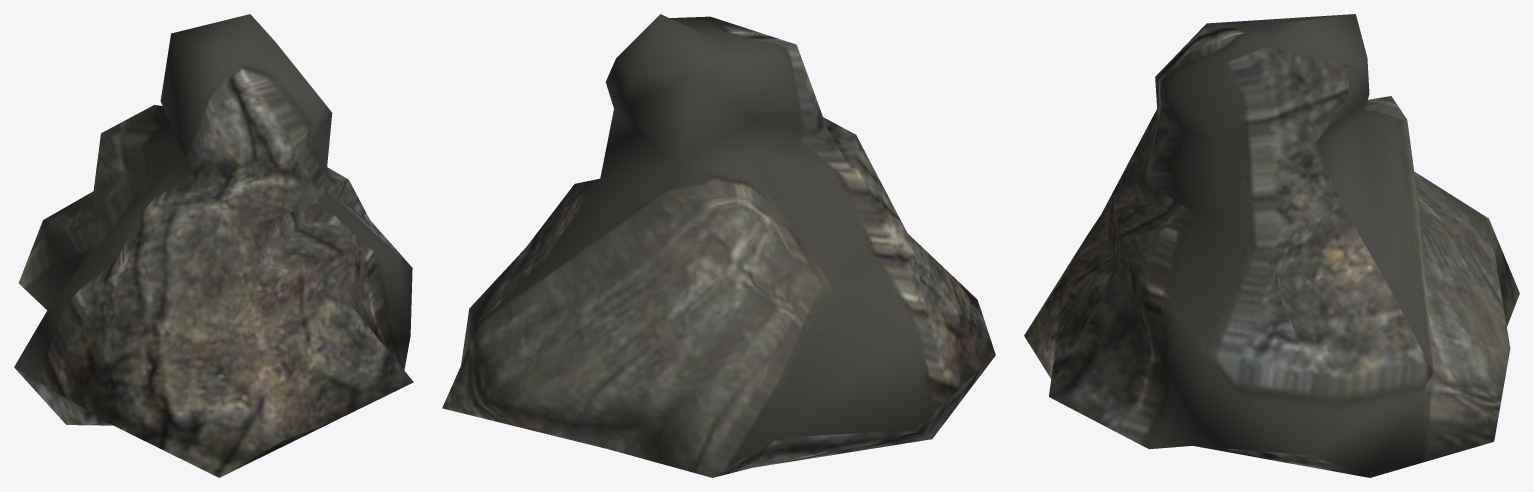
The model's file is Stal9A.fbx.
The picture shows the model from 3 angles, left to right: view 1: azimuth 30°, elevation 25°; view 2: azimuth 150°, elevation 25°; view 3: azimuth 270°, elevation 25°; orthographic projection. The views are drawn at different scales.
Visible parts, largest first — view 1: Stal2_polySurface21; view 2: Stal2_polySurface21; view 3: Stal2_polySurface21.
Part boxes in pixels (x1,y1,x2,y2): Stal2_polySurface21: (14, 14, 413, 477); Stal2_polySurface21: (442, 14, 995, 477); Stal2_polySurface21: (1024, 14, 1519, 477).
Size of the model in its own units: 4.81 by 4.13 by 4.55.
